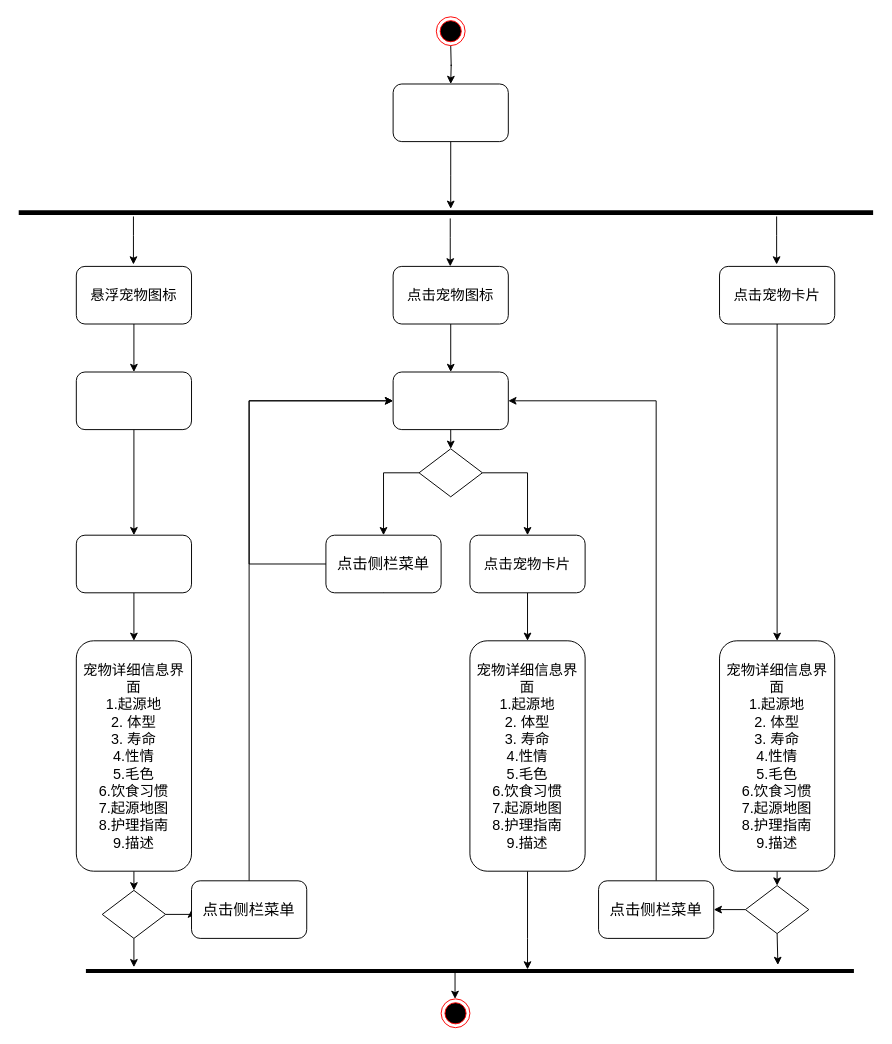
This 892x1044 diagram has some shape labels left out. The shapes that lost their labels are listed below. From the top down, each one's centre as x and y in pixels, then its label:
pixel 450 112: 浏览宠物百科界面
pixel 133 400: 查看宠物子类菜单
pixel 450 400: 进入宠物基础信息界面
pixel 133 563: 选择宠物子类
